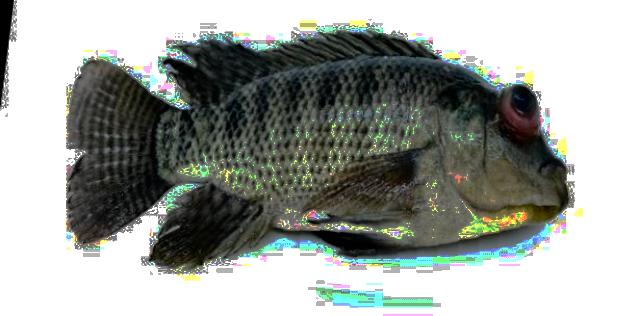Streptococcus: (67, 32, 568, 267), (67, 32, 568, 267), (67, 32, 568, 267), (67, 32, 568, 267)
